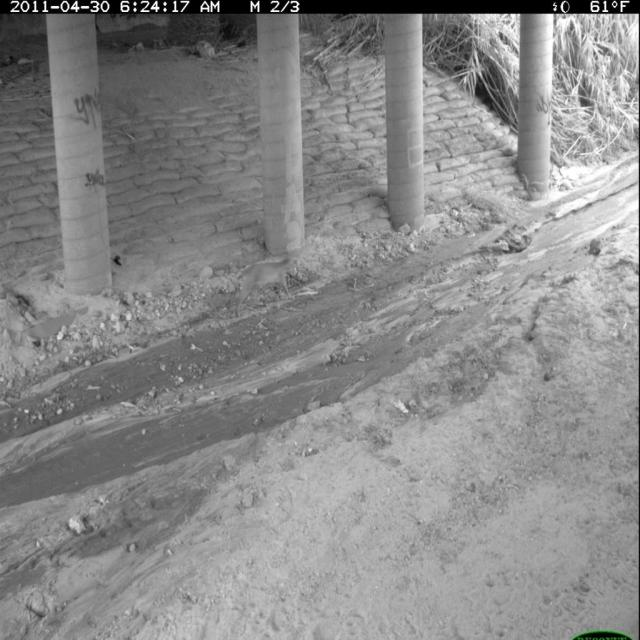bobcat: (233, 250, 300, 325)
